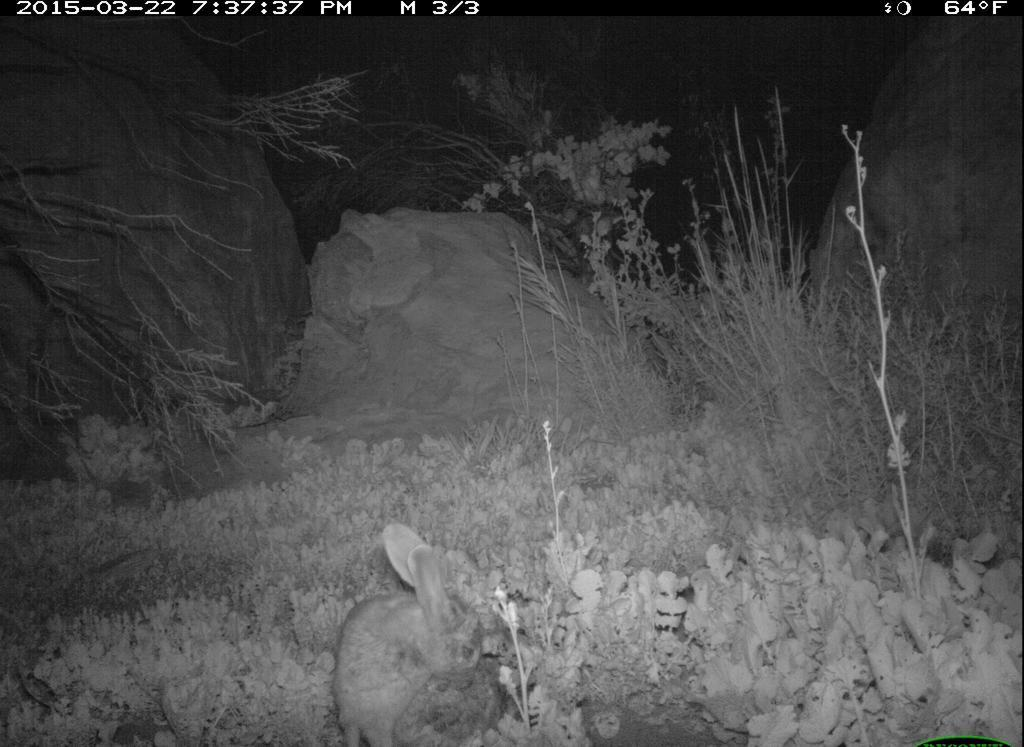rabbit: (322, 517, 510, 747)
